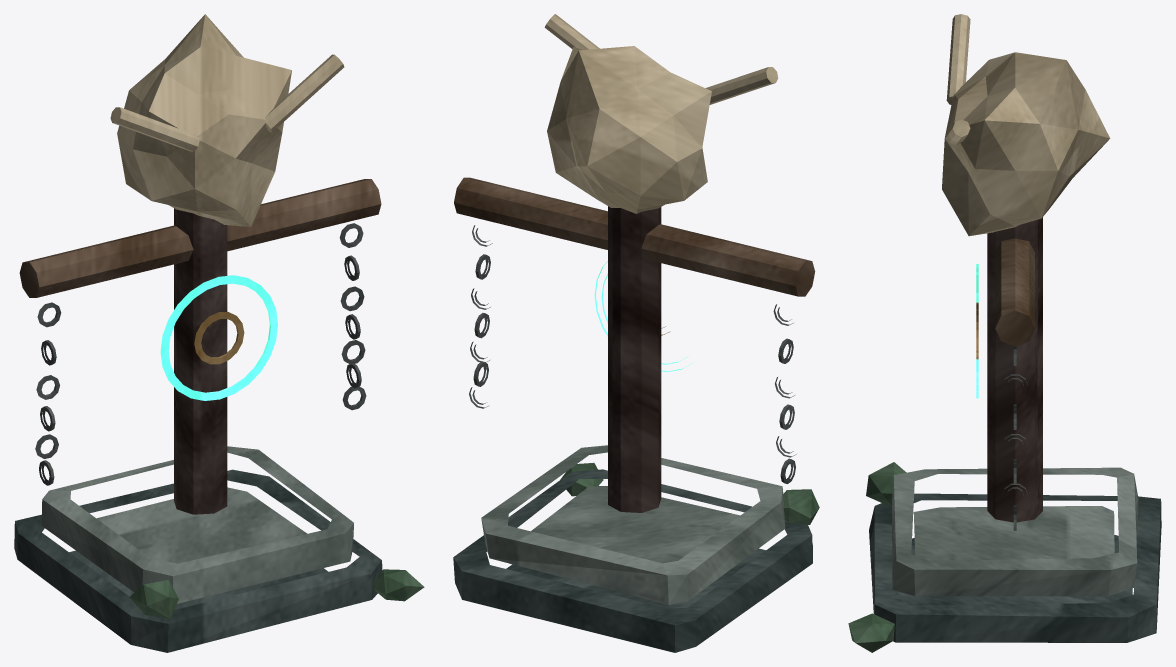
File: 0518_effigy_18.glb
3 views of the same model, side by side, from view 1: azimuth 30°, elevation 25°; view 2: azimuth 150°, elevation 25°; view 3: azimuth 270°, elevation 25° (orthographic).
Parts seen in each view (by area): view 1: bone, stone, stone_dark, wood_dark, wood, iron, glow, moss, brass; view 2: stone, bone, stone_dark, wood_dark, wood, iron, moss; view 3: stone, bone, stone_dark, wood_dark, wood, moss, iron.
Part boxes in pixels (x1,y1,x2,y2): bone: [110, 14, 344, 226]; stone: [41, 446, 353, 603]; stone_dark: [14, 469, 382, 652]; wood_dark: [174, 208, 227, 514]; wood: [19, 179, 381, 297]; iron: [35, 223, 366, 485]; glow: [160, 275, 277, 400]; moss: [129, 569, 424, 618]; brass: [194, 311, 244, 364]; stone: [481, 445, 785, 604]; bone: [544, 14, 778, 213]; stone_dark: [453, 469, 812, 652]; wood_dark: [608, 206, 661, 512]; wood: [454, 177, 815, 296]; iron: [469, 225, 796, 483]; moss: [560, 462, 819, 524]; stone: [892, 467, 1138, 596]; bone: [942, 14, 1110, 236]; stone_dark: [869, 493, 1161, 642]; wood_dark: [987, 217, 1042, 522]; wood: [995, 238, 1034, 346]; moss: [848, 462, 906, 652]; iron: [1002, 346, 1027, 530].
Size of the model in its own units: 2 by 3.01 by 1.58.
9 materials, 9 textured.
